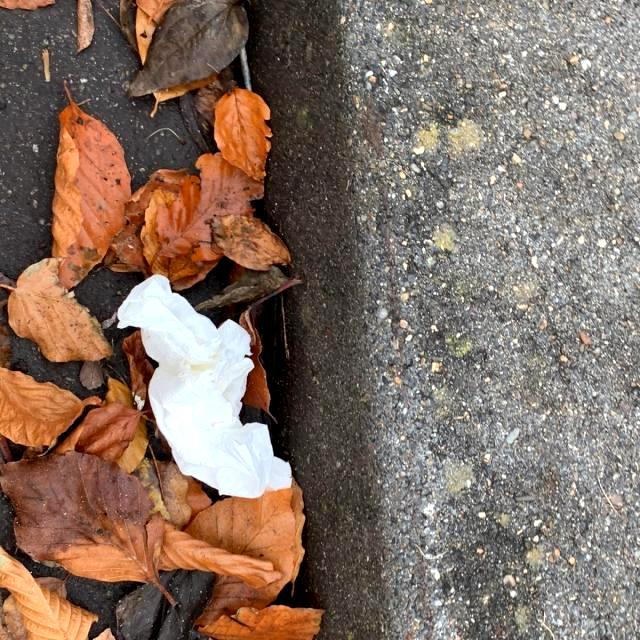Paper: (116, 273, 294, 502)
